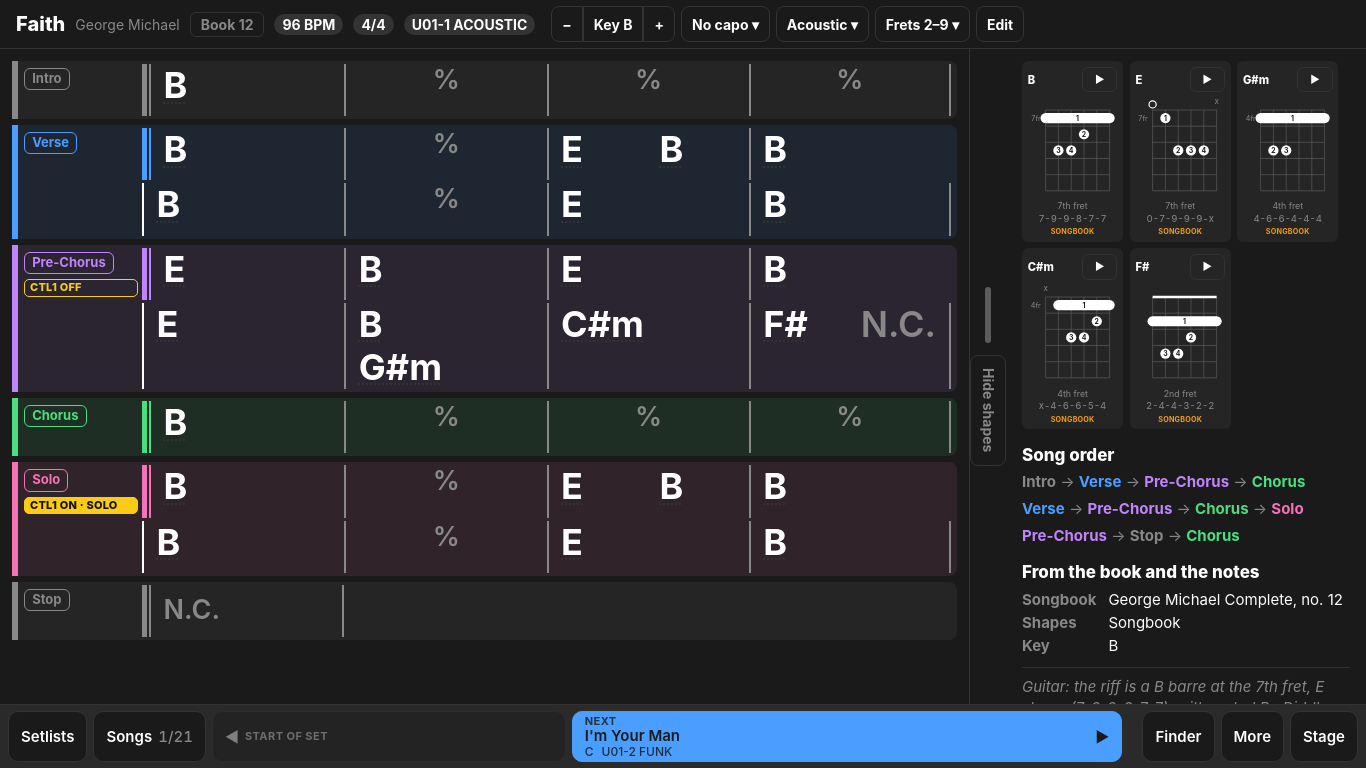
Check for updates, in More › says when the site cannot be reached
Click the button "More": coordinates (1252, 736) [1220,711,1284,762]
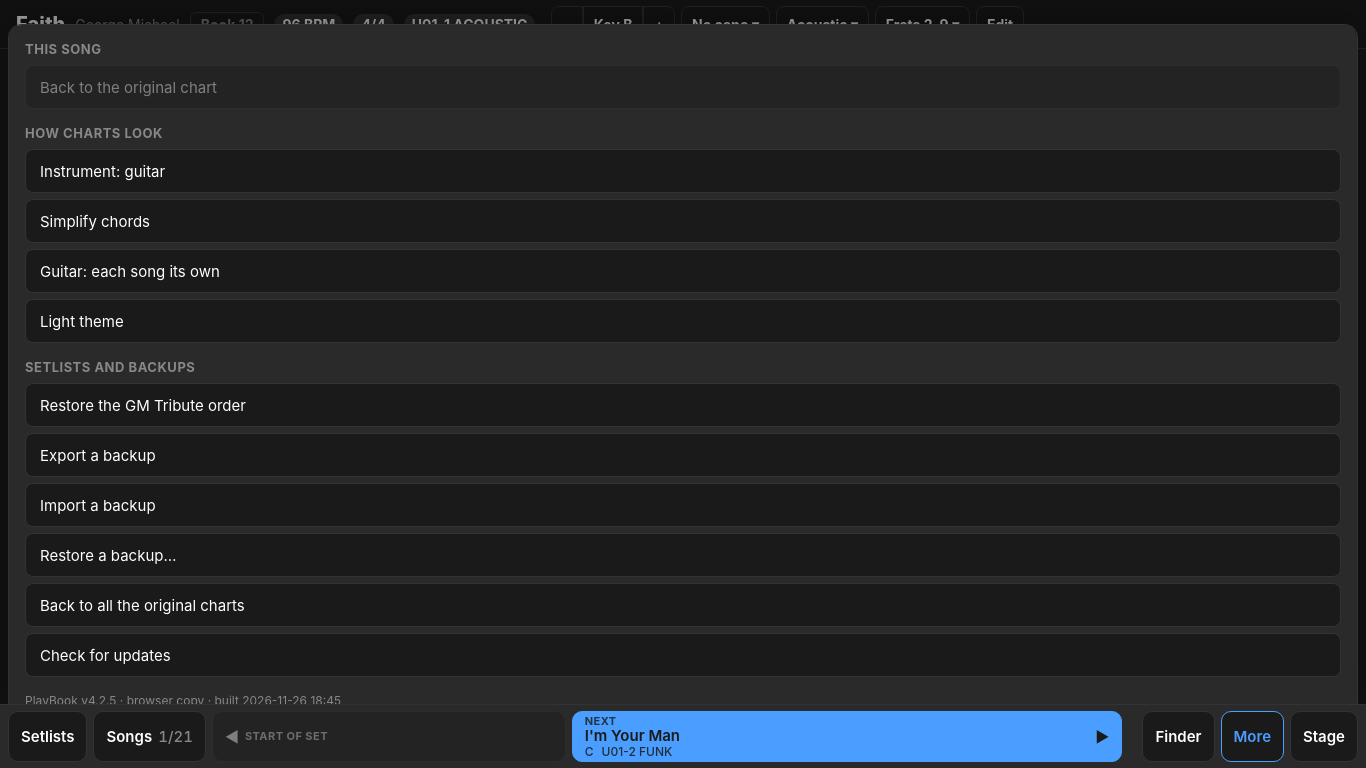
Check: the button "Check for updates" is shown
Click the button "Check for updates": coordinates (105, 655) [25,633,1341,677]
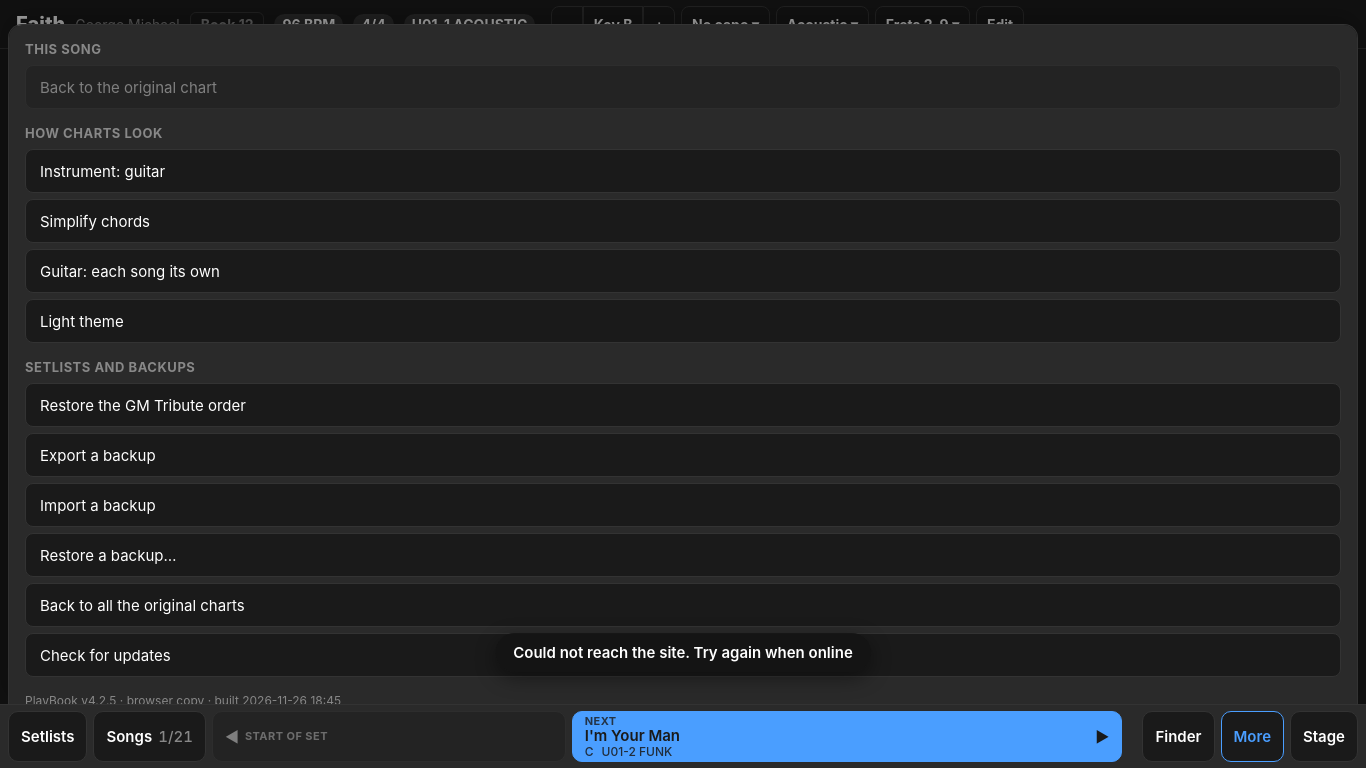
Check: the text "Could not reach the site. Try again when online" is shown, box [495,633,871,672]
